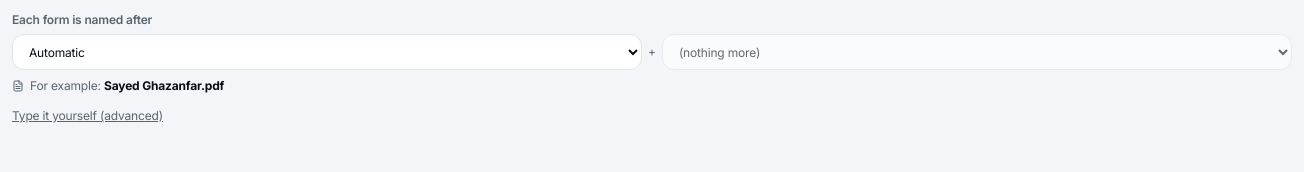
Test: NameSetting › builds the name from one or two columns picked from lists
The image size is (1304, 172).
Later steps or results of the test are not shown.
Select "First Name" in the dropdown named "Name: first part" at (327, 52), box [12,34,642,70]
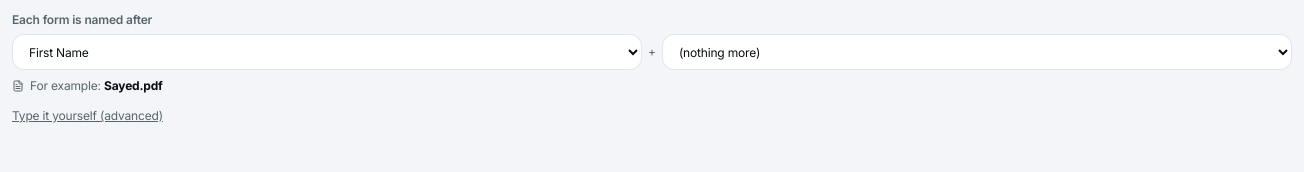
Expected: the text "Sayed.pdf" is shown, [104,78,163,93]
